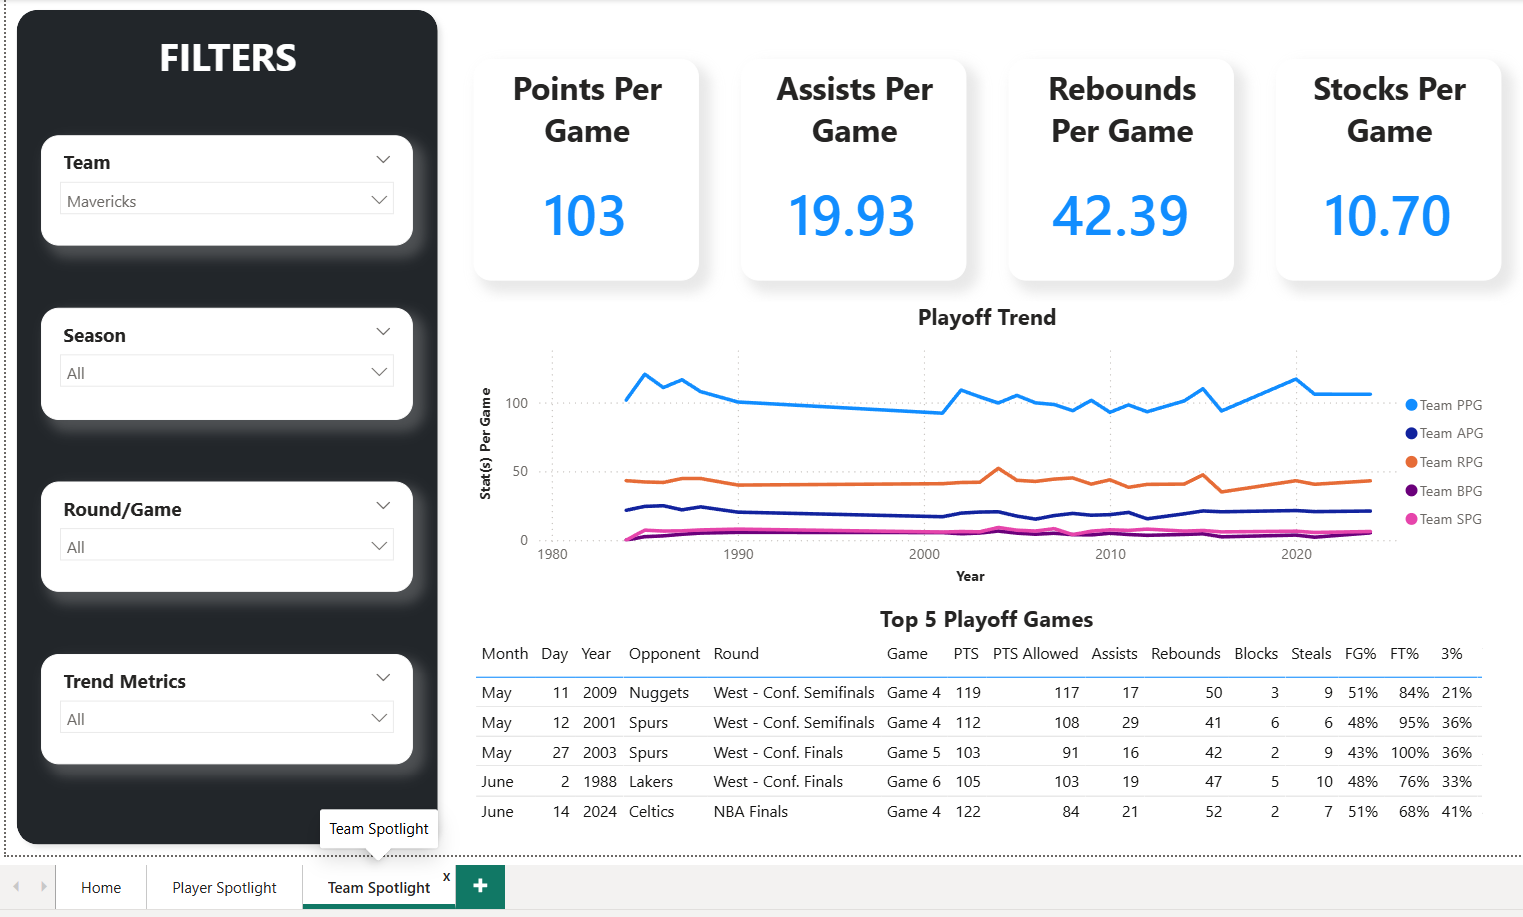

What the dashboard file says about the page in this screenshot:
{"tool":"powerbi","page":{"name":"Team Spotlight","canvas":[1280,720],"ordinal":2},"visuals":[{"type":"shape","box":[0,0,372.2,720.2],"z":0},{"type":"textbox","box":[118.8,21,135.6,54.7],"z":1000},{"type":"slicer","fields":{"Values":["processed_team_boxscores.team_name"]},"box":[29.1,115.1,312.8,93],"z":2000},{"type":"slicer","fields":{"Values":["processed_team_boxscores.season_year"]},"box":[29.1,260.1,312.8,94.2],"z":3000},{"type":"slicer","fields":{"Values":["processed_team_boxscores.gamelabel","processed_team_boxscores.gamesublabel"]},"box":[29.1,406.2,312.8,93],"z":5000},{"type":"cardVisual","title":"Points Per Game","fields":{"Data":["_Measures.Team PPG"]},"box":[393,50,189.5,186],"z":6000},{"type":"cardVisual","title":"Assists Per Game","fields":{"Data":["_Measures.Team APG"]},"box":[618.2,50,189.5,186],"z":7000},{"type":"cardVisual","title":"Rebounds Per Game","fields":{"Data":["_Measures.Team RPG"]},"box":[843.4,50,189.5,186],"z":8000},{"type":"cardVisual","title":"Stocks Per Game","fields":{"Data":["_Measures.Team Stocks/G"]},"box":[1068.6,50,189.5,186],"z":9000},{"type":"lineChart","title":"Playoff Trend","fields":{"Y":["_Measures.Team PPG","_Measures.Team APG","_Measures.Team RPG","_Measures.Team BPG","_Measures.Team SPG"],"Category":["dim_games.season_year"]},"box":[393.2,257.6,864.3,243.9],"z":10000},{"type":"slicer","fields":{"Values":["Team Trend Metrics.Team Trend Metrics"]},"box":[29.1,551.2,312.8,93],"z":11000},{"type":"tableEx","title":"Top 5 Playoff Games","fields":{"Values":["dim_games.gamedatetimeest.Variation.Date Hierarchy.Month","dim_games.gamedatetimeest.Variation.Date Hierarchy.Day","dim_games.gamedatetimeest.Variation.Date Hierarchy.Year","processed_team_boxscores.opponent_team_name","processed_team_boxscores.gamelabel","processed_team_boxscores.gamesublabel","processed_team_boxscores.team_score","processed_team_boxscores.opponent_score","processed_team_boxscores.assists","processed_team_boxscores.rebounds","processed_team_boxscores.blocks","processed_team_boxscores.steals"]},"box":[389.5,511.6,870.9,198.8],"z":12000}]}

Visuals, with their boxes on the page's 1280x720 design canvas (x1, y1, x2, y2). These are canvas units, not pixel positions in the 1523x917 screenshot, which may show the page scaled, cropped or inside an application window:
shape: 0/0/372/720
textbox: 119/21/254/76
slicer - processed_team_boxscores.team_name: 29/115/342/208
slicer - processed_team_boxscores.season_year: 29/260/342/354
slicer - processed_team_boxscores.gamelabel x processed_team_boxscores.gamesublabel: 29/406/342/499
"Points Per Game" cardVisual: 393/50/582/236
"Assists Per Game" cardVisual: 618/50/808/236
"Rebounds Per Game" cardVisual: 843/50/1033/236
"Stocks Per Game" cardVisual: 1069/50/1258/236
"Playoff Trend" lineChart: 393/258/1258/502
slicer - Team Trend Metrics.Team Trend Metrics: 29/551/342/644
"Top 5 Playoff Games" tableEx: 390/512/1260/710
